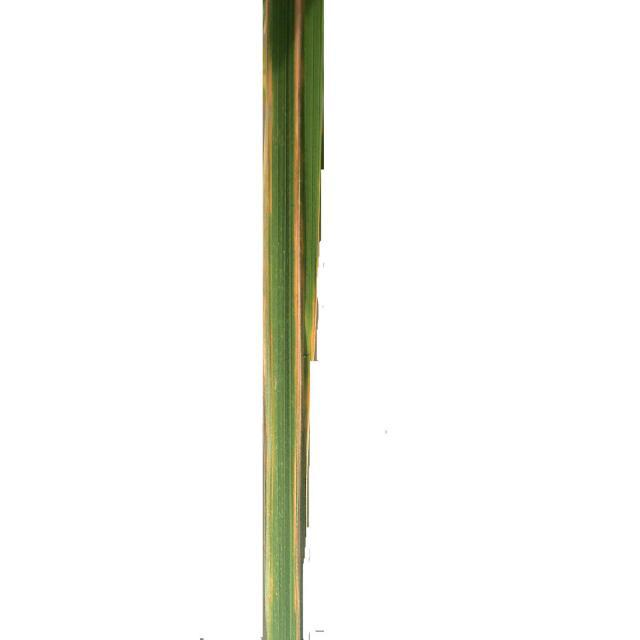leaf blight: (247, 1, 333, 640)
